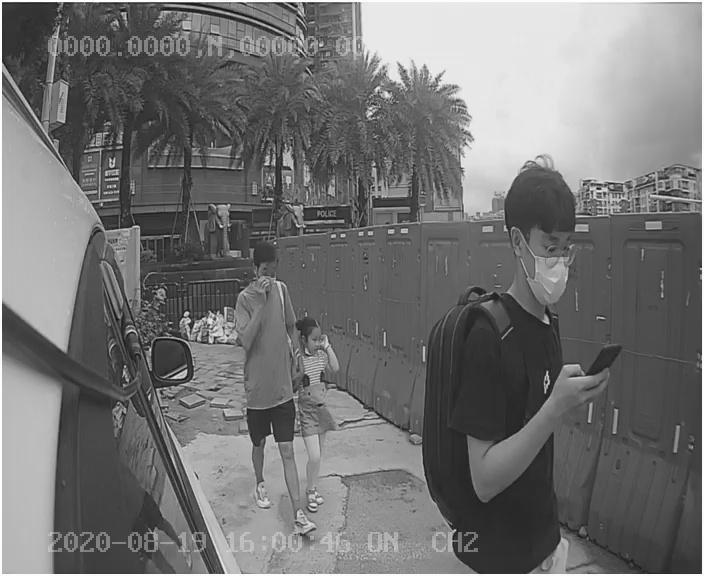person: (232, 236, 313, 514)
